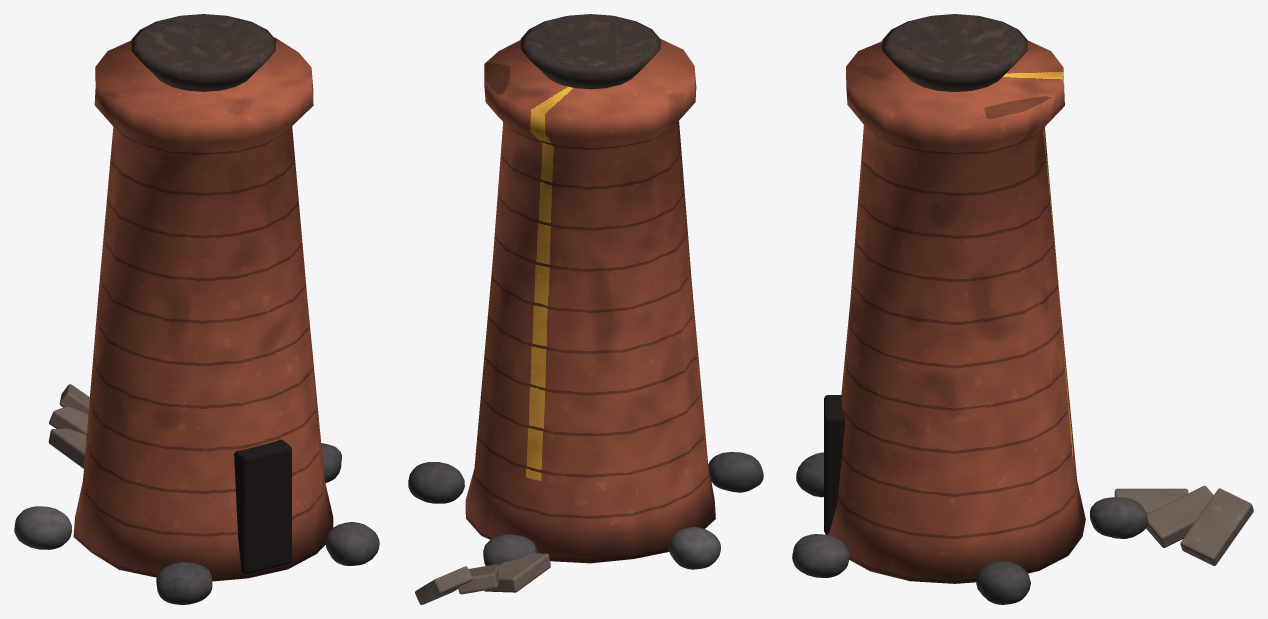
File: volcano_tower_ruin.glb
The picture shows the model from 3 angles, left to right: view 1: azimuth 30°, elevation 25°; view 2: azimuth 150°, elevation 25°; view 3: azimuth 270°, elevation 25°; orthographic projection. The views are drawn at different scales.
Parts seen in each view (by area): view 1: VolcanoTower, bw; view 2: VolcanoTower, bw; view 3: VolcanoTower, bw.
Boxes of the visible parts, <box> form: VolcanoTower: <box>14,37,379,604</box>; bw: <box>131,14,275,91</box>; VolcanoTower: <box>408,39,763,604</box>; bw: <box>520,14,660,89</box>; VolcanoTower: <box>792,40,1253,604</box>; bw: <box>882,14,1027,91</box>.
Size of the model in its own units: 4.5 by 6.76 by 5.64.
1 material, 1 textured.
